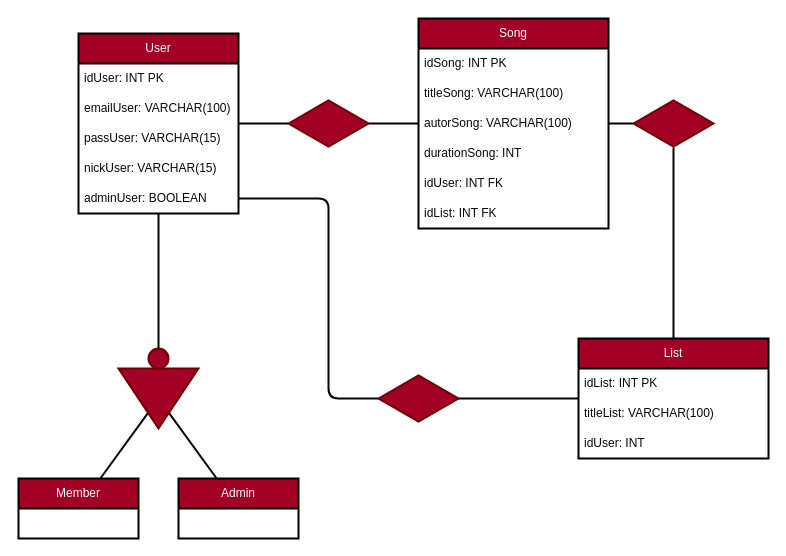
Some shapes in this 786 by 556 pixel diagram are drawn without their labels. The shapes that lost their labels are listed below. From the top down, each one's centre as x and y in pixels, then its label:
At point 328,123: "create_r".
At point 673,123: "contains_a".
At point 418,398: "create_t".
